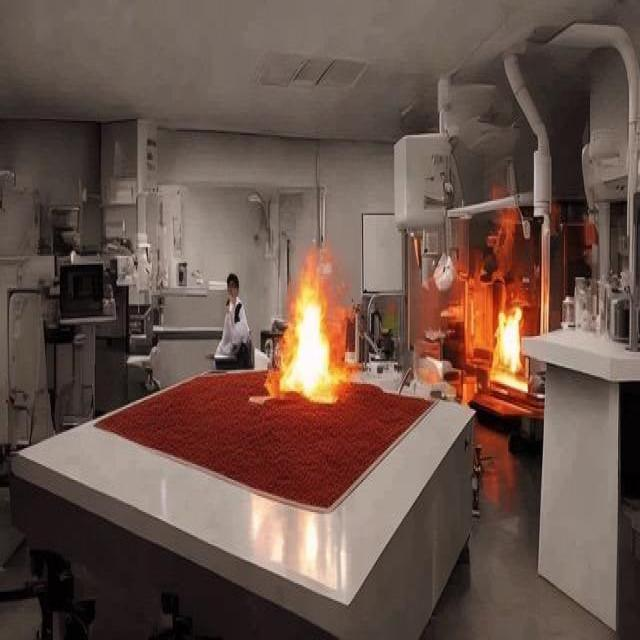smoke: (269, 246, 350, 404), (488, 263, 538, 384)
